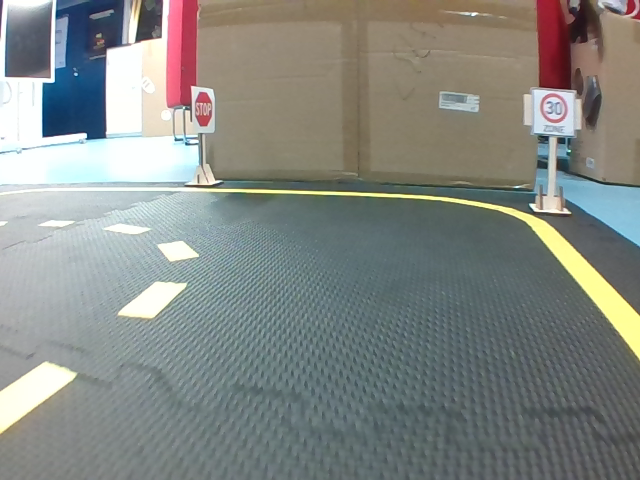30: (534, 88, 575, 134)
stop: (190, 86, 214, 132)
